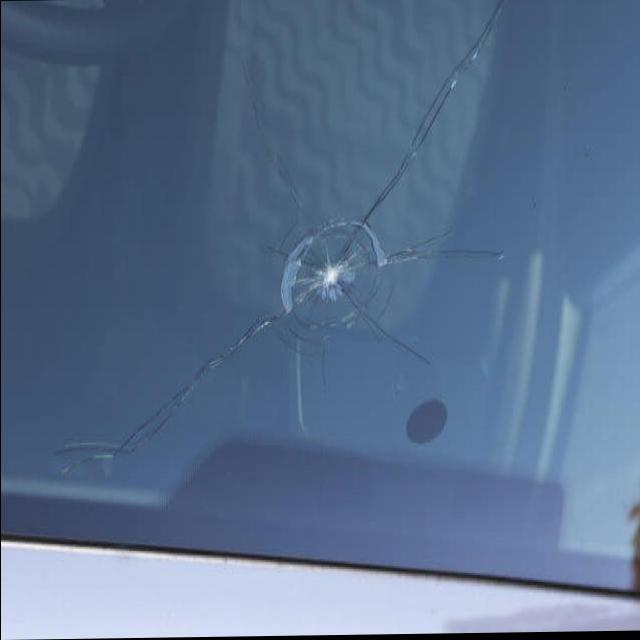Glass_Break: (58, 0, 508, 462)
